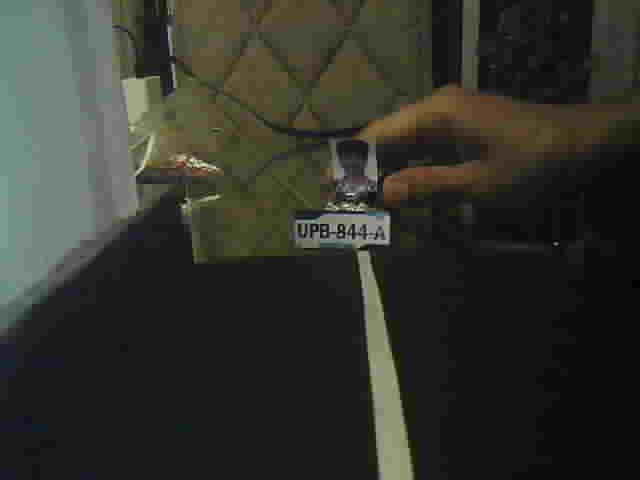PLACA: (293, 209, 392, 251)
ROSTRO: (329, 136, 379, 193)
